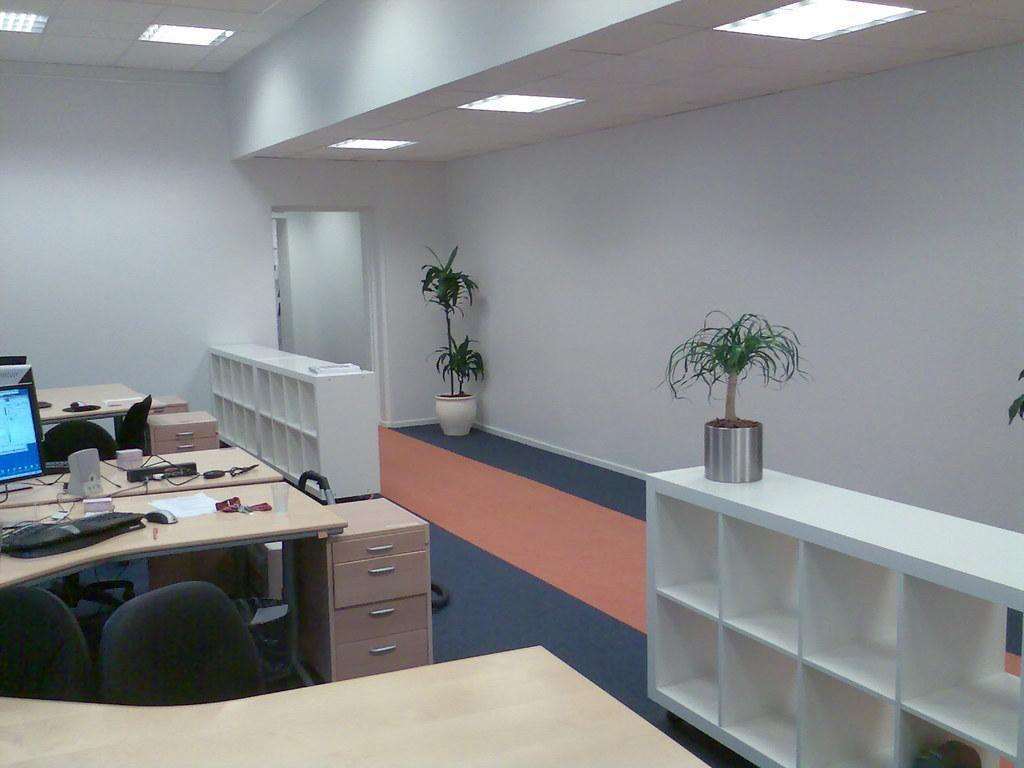AIO PC-Monitor-TV: (0, 382, 48, 485)
Filing Cabinet: (325, 523, 431, 682)
Meja: (0, 478, 346, 589)
Rak: (643, 474, 1023, 767), (205, 346, 325, 499)
